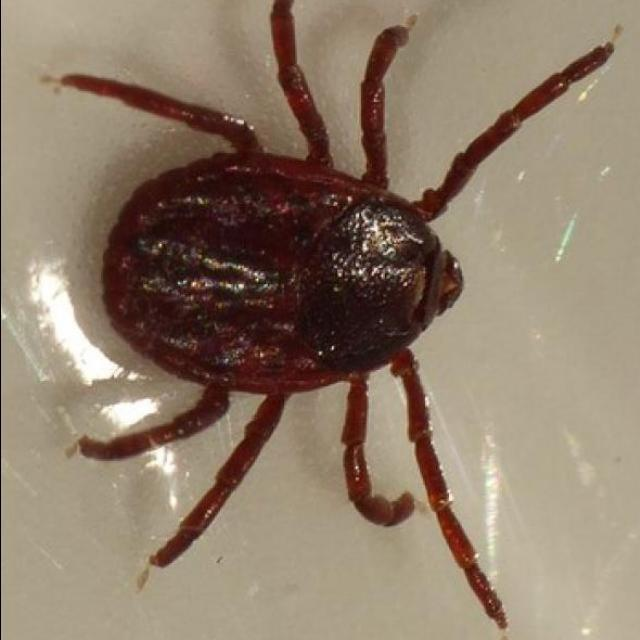Rhipicephalus Sanguineus-F: (56, 0, 613, 640)
